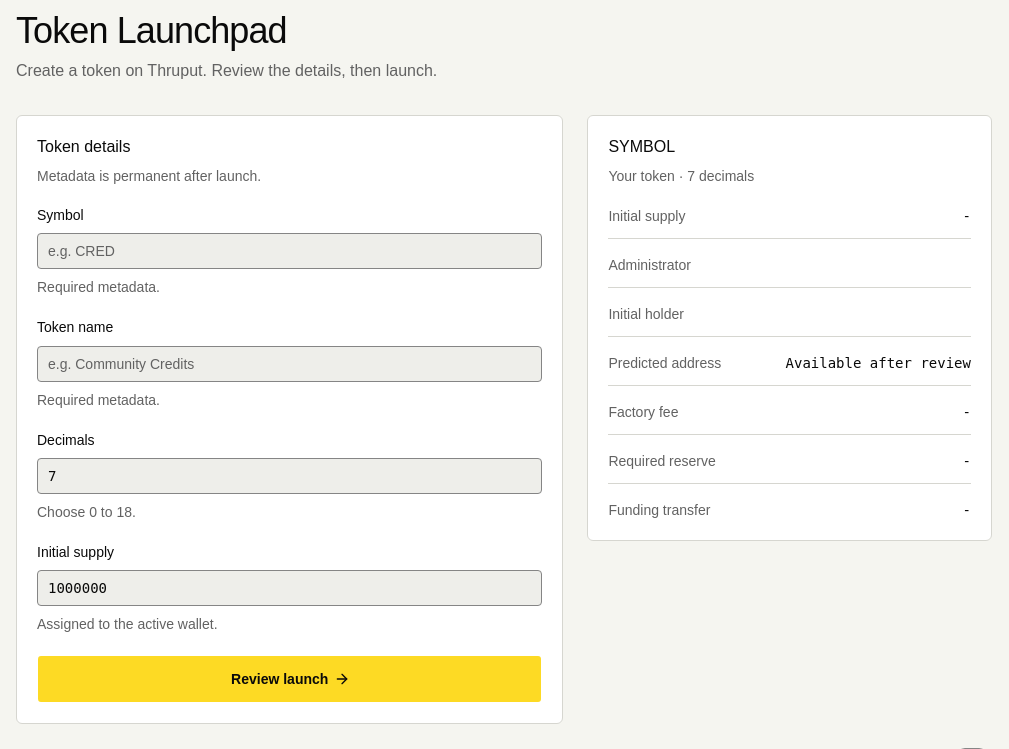
Test: blocks invalid token inputs before factory reads or signing
The width and height of the screenshot is (1009, 749).
Step 1. Click the button "Review launch" → x=290, y=679, box [37,655,542,703]
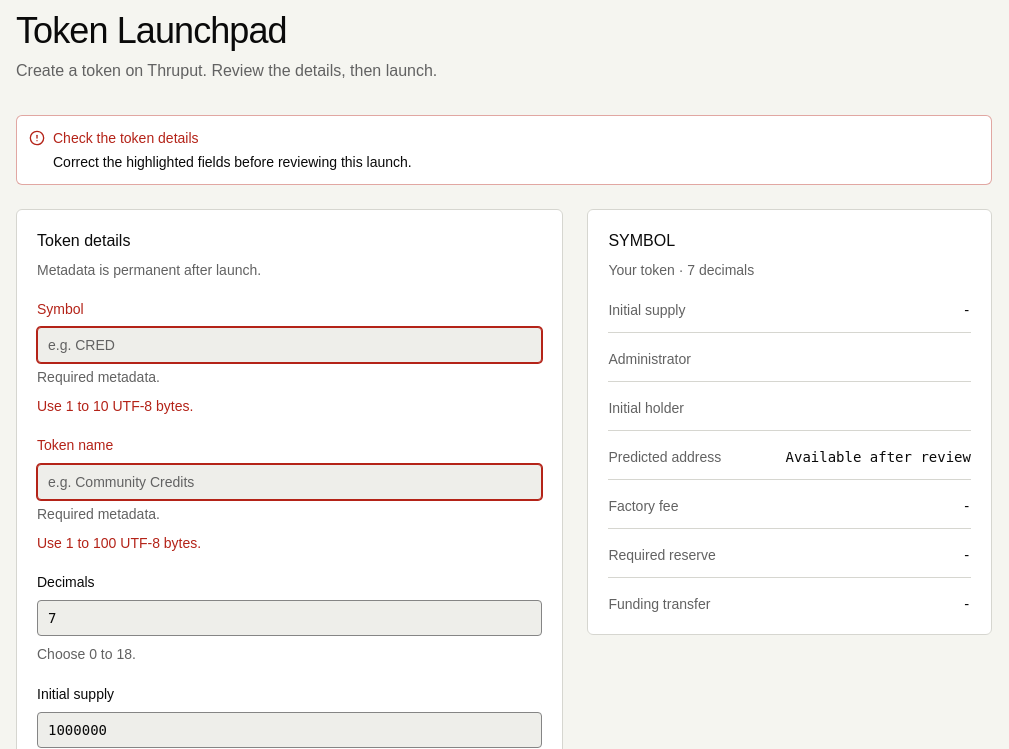
Expected: the text "Check the token details" is shown, [53,130,198,146]
